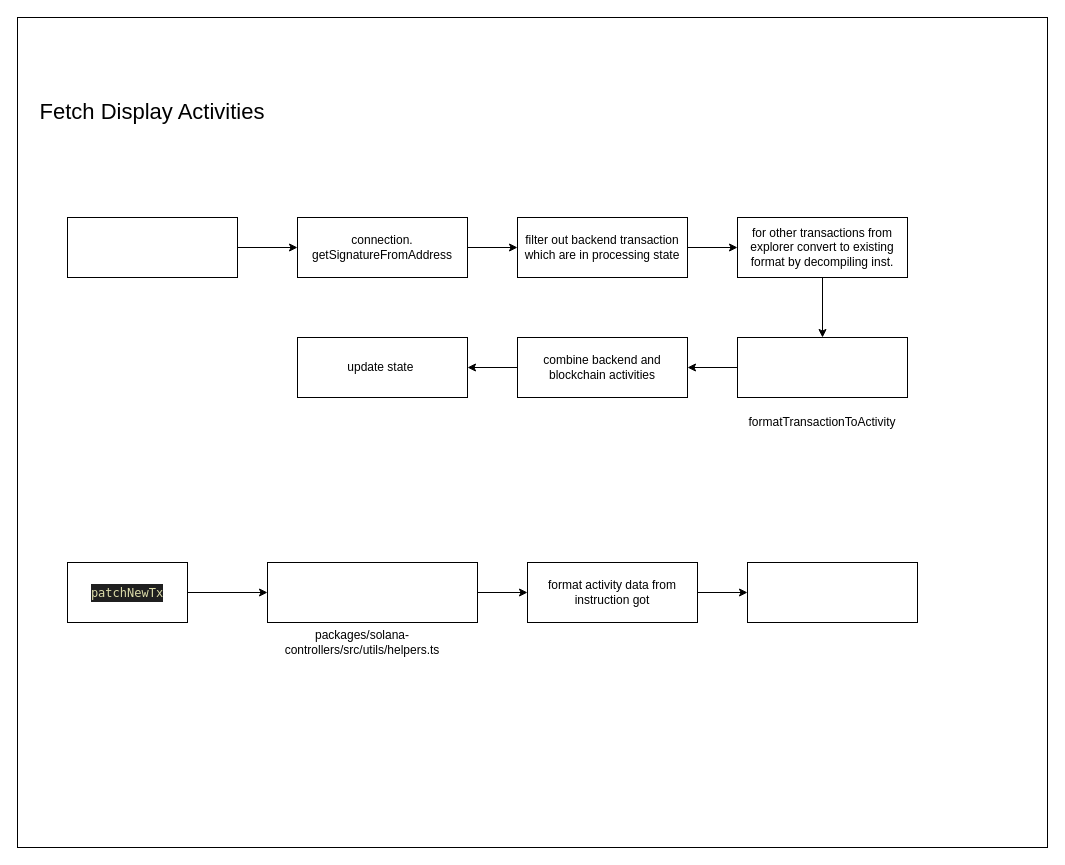
Some shapes in this 1065 by 865 pixel diagram are drawn without their labels. The shapes that lost their labels are listed below. From the top down, each one's box as (x1, y1, x2, y2) in pixels, then its label:
(66, 216, 238, 278): activity
(736, 336, 908, 398): getParsedTx - i/p signatureinfos then format activity
(266, 562, 478, 622): get the incoming tx instruction - decompile tx message
(746, 562, 918, 622): save in solana db
